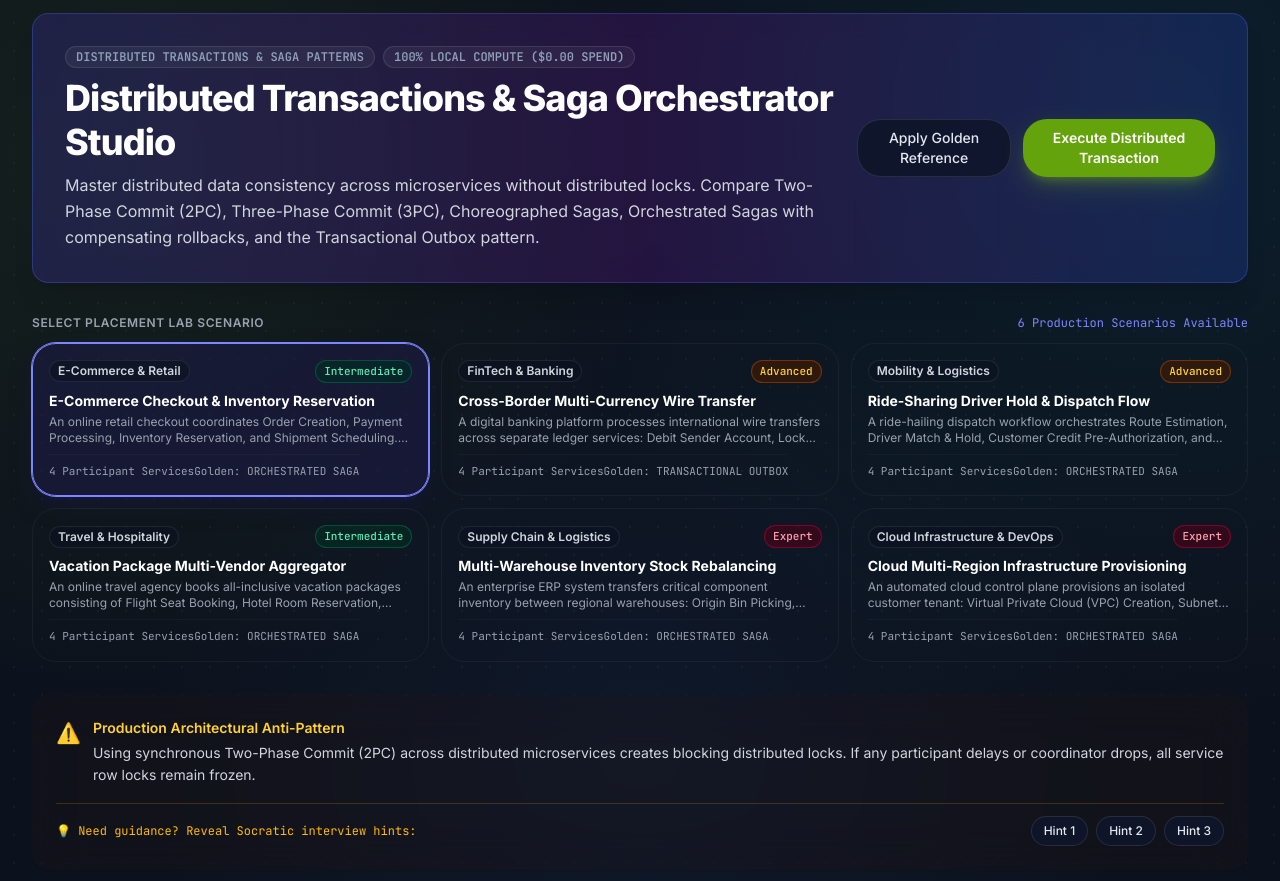
TransactionLabPage Component & Interaction Suite › executes distributed transaction and transitions to step waterfall tab
What coordinates should you click on to do the following:
click the button "Execute Distributed Transaction"
I would click on:
 (1119, 148)
Its box is [1023, 119, 1215, 177].
(page scrolled)
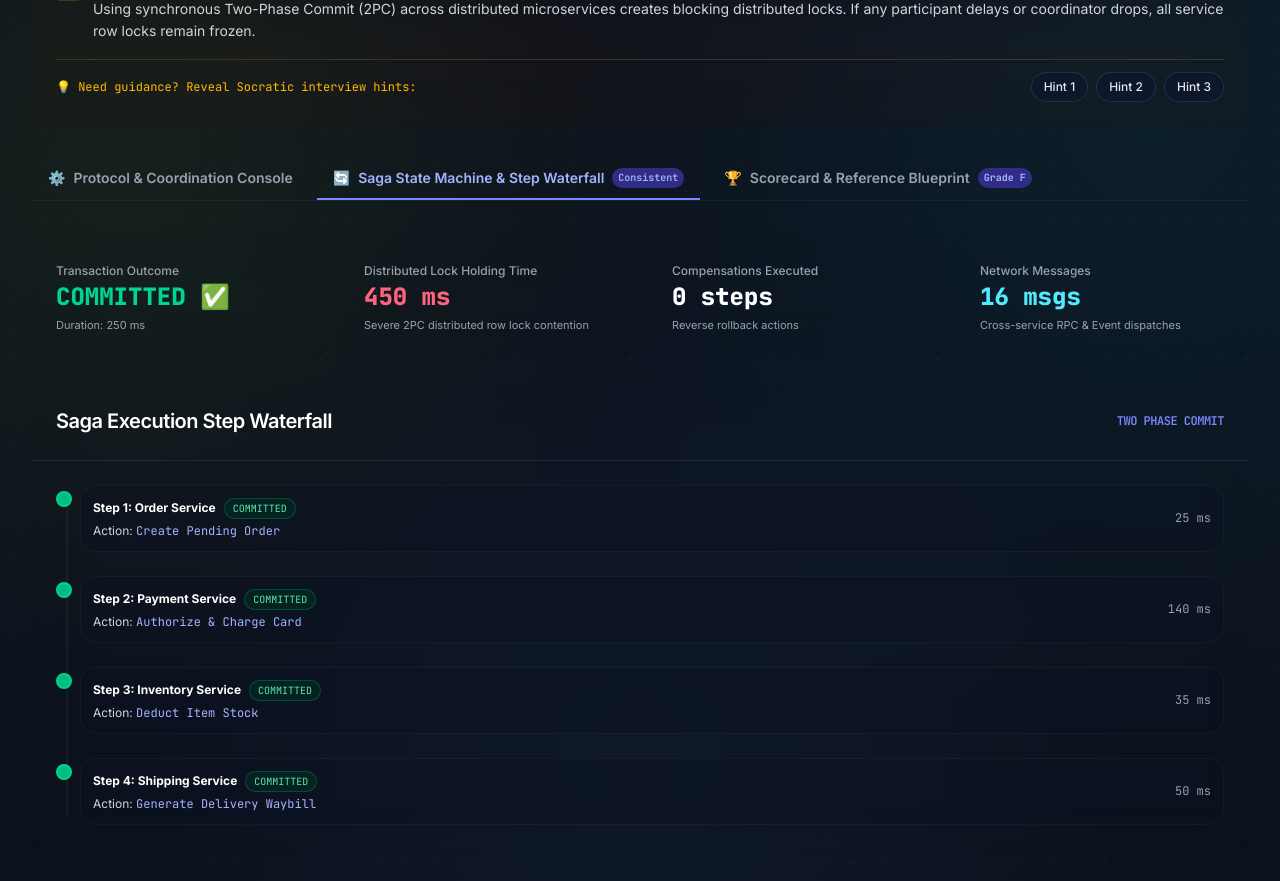
Expected: the text "Transaction Outcome" is shown, [56, 263, 179, 278]
Expected: the text "Distributed Lock Holding Time" is shown, [364, 263, 537, 278]
Expected: the text "Saga Execution Step Waterfall" is shown, [56, 406, 332, 436]
